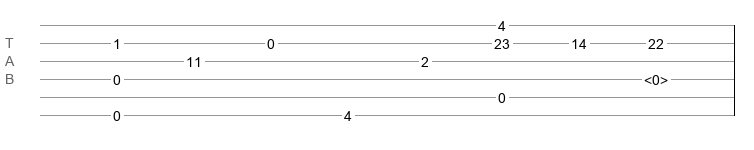0: (113, 108, 121, 118), (113, 72, 121, 82), (267, 36, 275, 46), (498, 90, 506, 100)
1: (113, 36, 121, 46)
11: (186, 54, 202, 64)
14: (571, 36, 587, 46)
2: (421, 54, 429, 64)
22: (648, 36, 664, 46)
23: (494, 36, 510, 46)
4: (344, 108, 352, 118), (498, 18, 506, 28)
harmonic: (644, 72, 668, 82)
